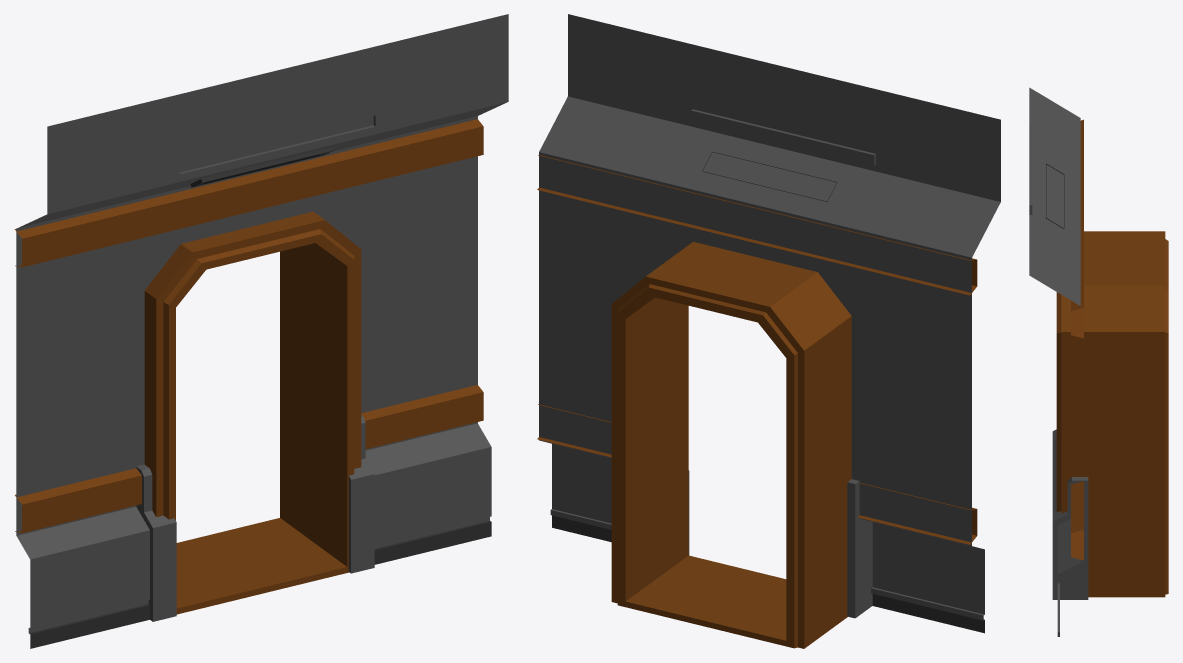
File: DoorSingle_Wall_SideA.obj
The picture shows the model from 3 angles, left to right: view 1: azimuth 30°, elevation 25°; view 2: azimuth 150°, elevation 25°; view 3: azimuth 270°, elevation 25°; orthographic projection. The views are drawn at different scales.
Visible parts, largest first — view 1: DoorSingle_Wall_SideA_Plane.313; view 2: DoorSingle_Wall_SideA_Plane.313; view 3: DoorSingle_Wall_SideA_Plane.313.
Part boxes in pixels (x1,y1,x2,y2): DoorSingle_Wall_SideA_Plane.313: [14, 14, 508, 648]; DoorSingle_Wall_SideA_Plane.313: [537, 14, 1000, 648]; DoorSingle_Wall_SideA_Plane.313: [1029, 87, 1168, 636].
Size of the model in its own units: 4 by 4.44 by 1.25.
